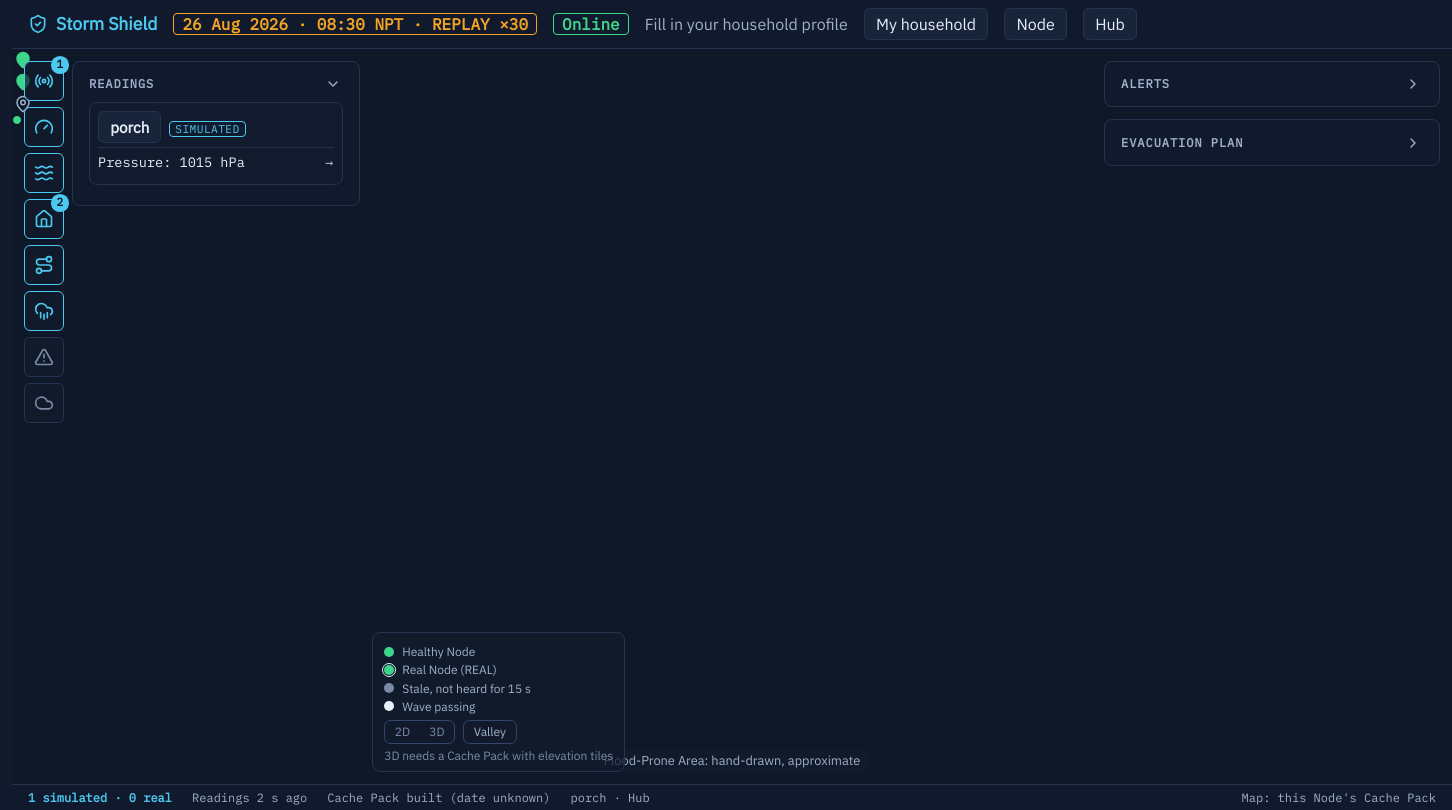
Test: the rail's layer buttons › hide the Node markers
Expected: the number of elements with class "node-marker" is 1, [12,115,22,125]
Click the button named "Nodes": [44, 81] box [24,61,64,101]
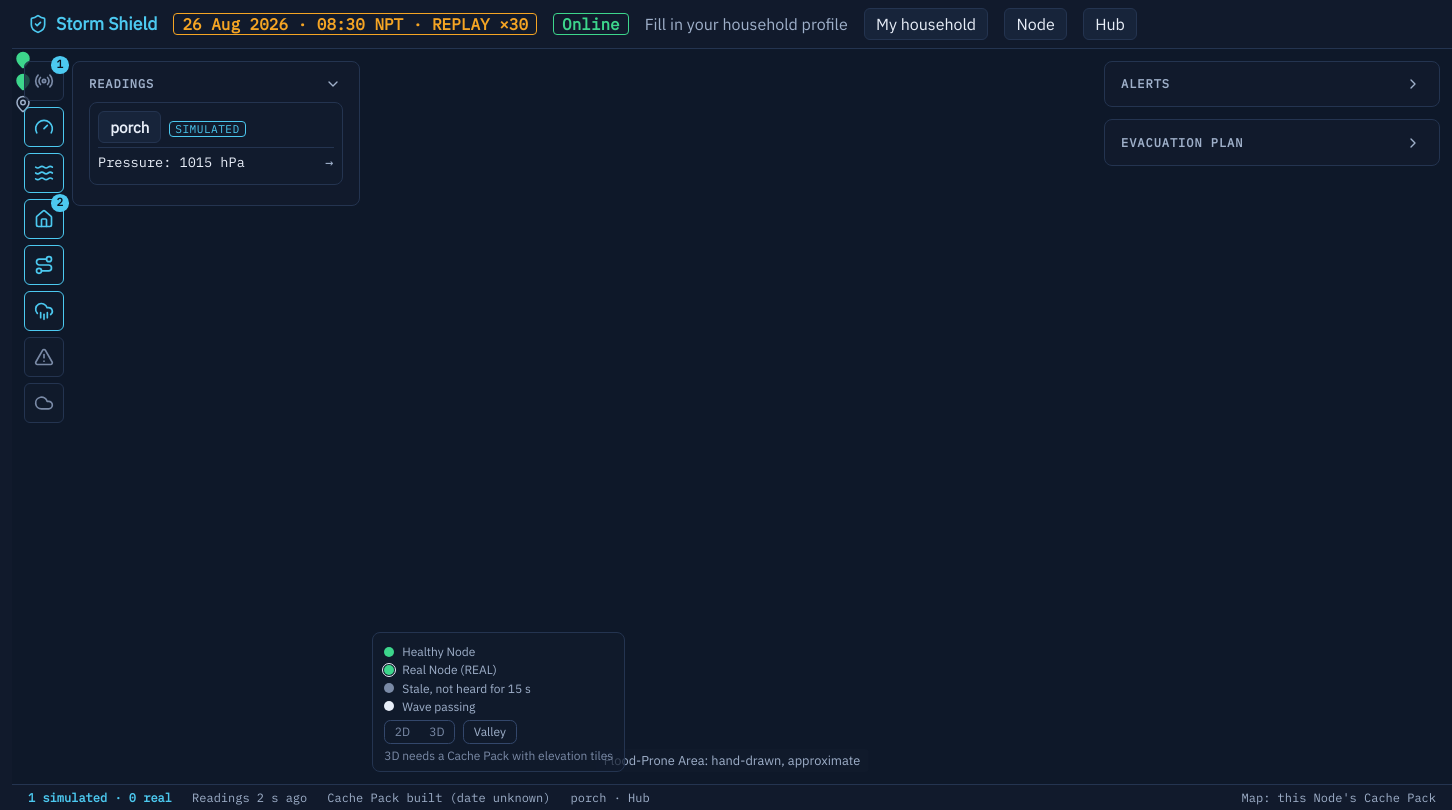
Expected: no elements with class "node-marker" are shown
